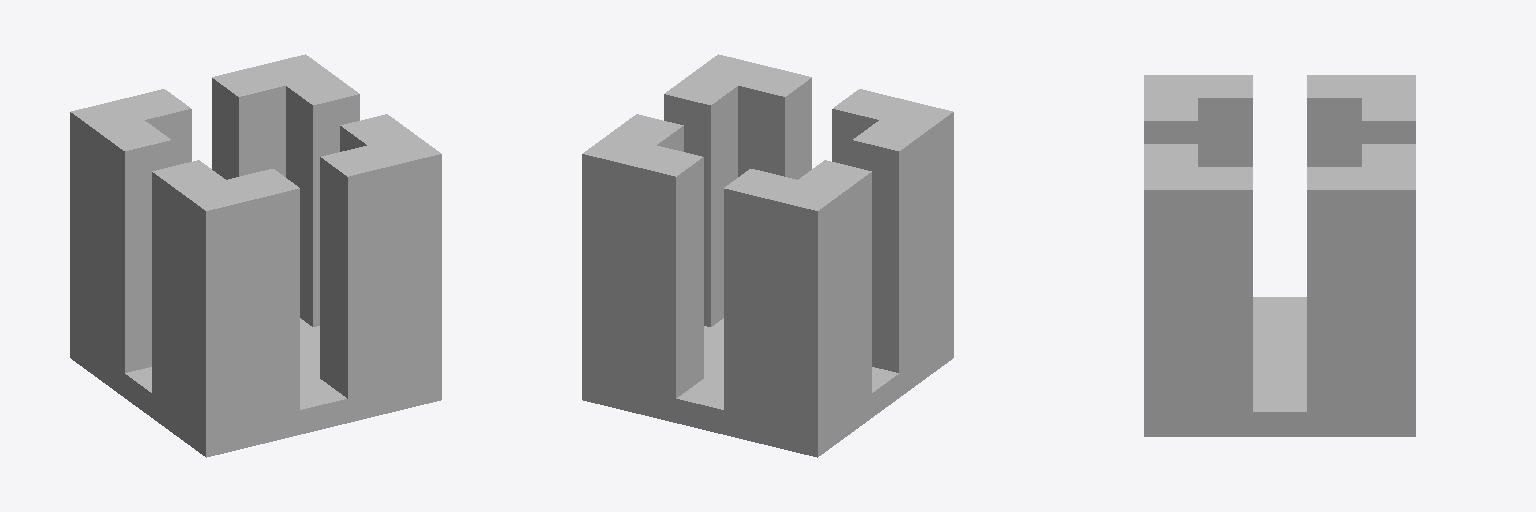
The model's file is blend_grain_mill.obj.
The picture shows the model from 3 angles: view 1: azimuth 30°, elevation 25°; view 2: azimuth 150°, elevation 25°; view 3: azimuth 270°, elevation 25°; orthographic projection.
Parts seen in each view (by area): view 1: GrainBin; view 2: GrainBin; view 3: GrainBin.
Boxes of the visible parts, box(x1,y1,x2,y2) form: GrainBin: box(70, 54, 441, 457); GrainBin: box(582, 54, 953, 457); GrainBin: box(1144, 75, 1415, 436).
Bounding box in the file's own units: 2 × 2 × 2.